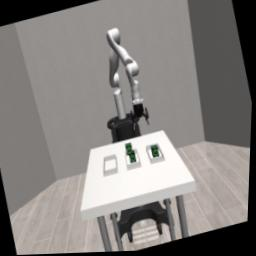cube1: (126, 142, 134, 156)
cube2: (130, 151, 138, 164)
cube3: (151, 144, 161, 159)
